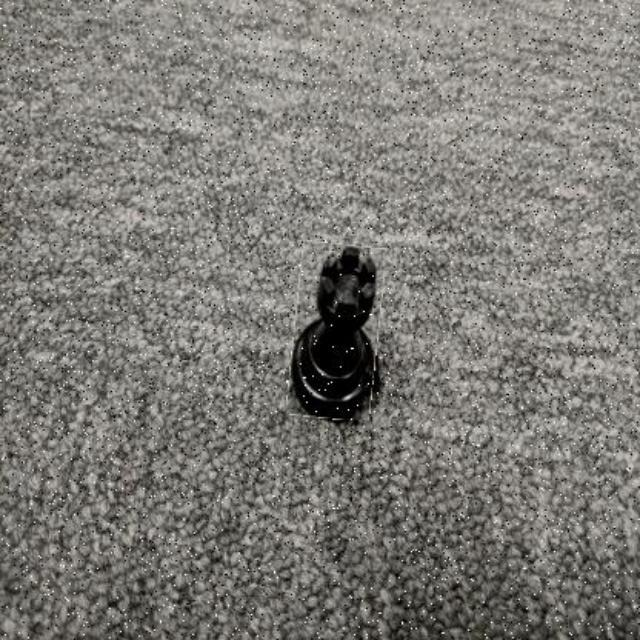black-rook: (291, 243, 383, 421)
